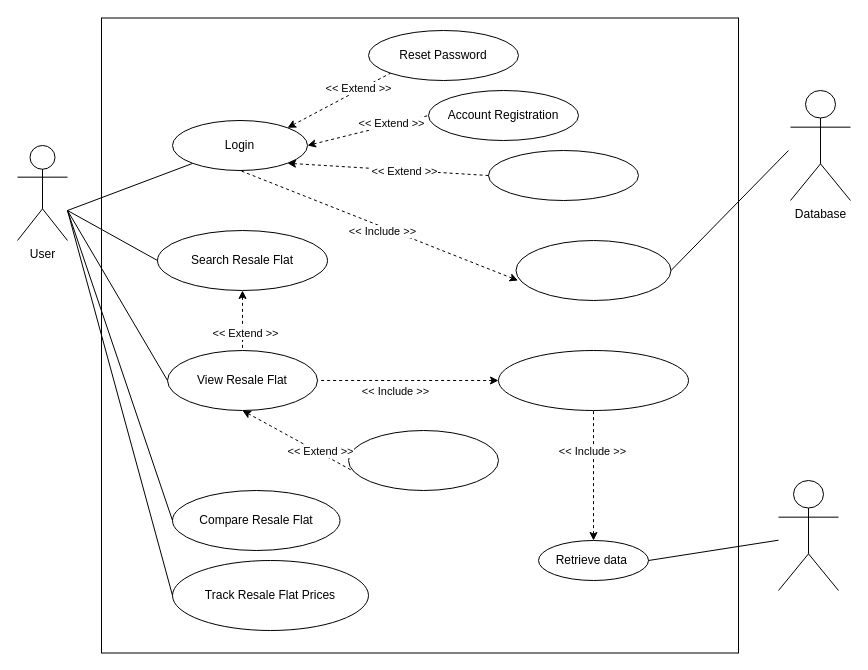
This 868x670 diagram has some shape labels left out. Each missing label, with the centre of its shape:
"data.gov.sg" goes at pixel 808 535.
"Database information" goes at pixel 593 270.
"Display price prediction graph" goes at pixel 593 380.
"Favourite Resale Flat" goes at pixel 423 460.
"Update account" goes at pixel 563 175.
